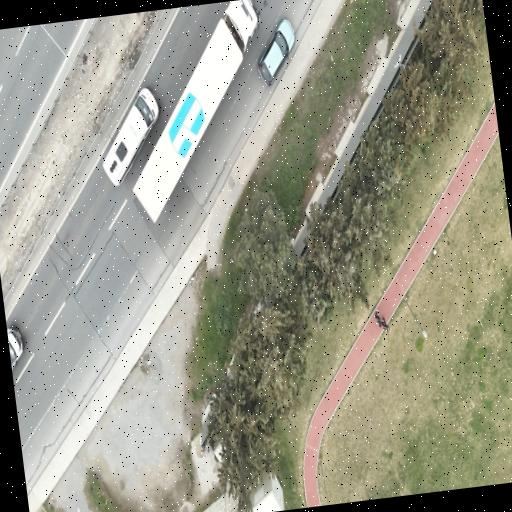car: (103, 87, 158, 185), (258, 19, 294, 85), (7, 327, 22, 367)
person: (380, 316, 388, 331), (374, 309, 381, 326)
truck: (133, 0, 259, 221)
